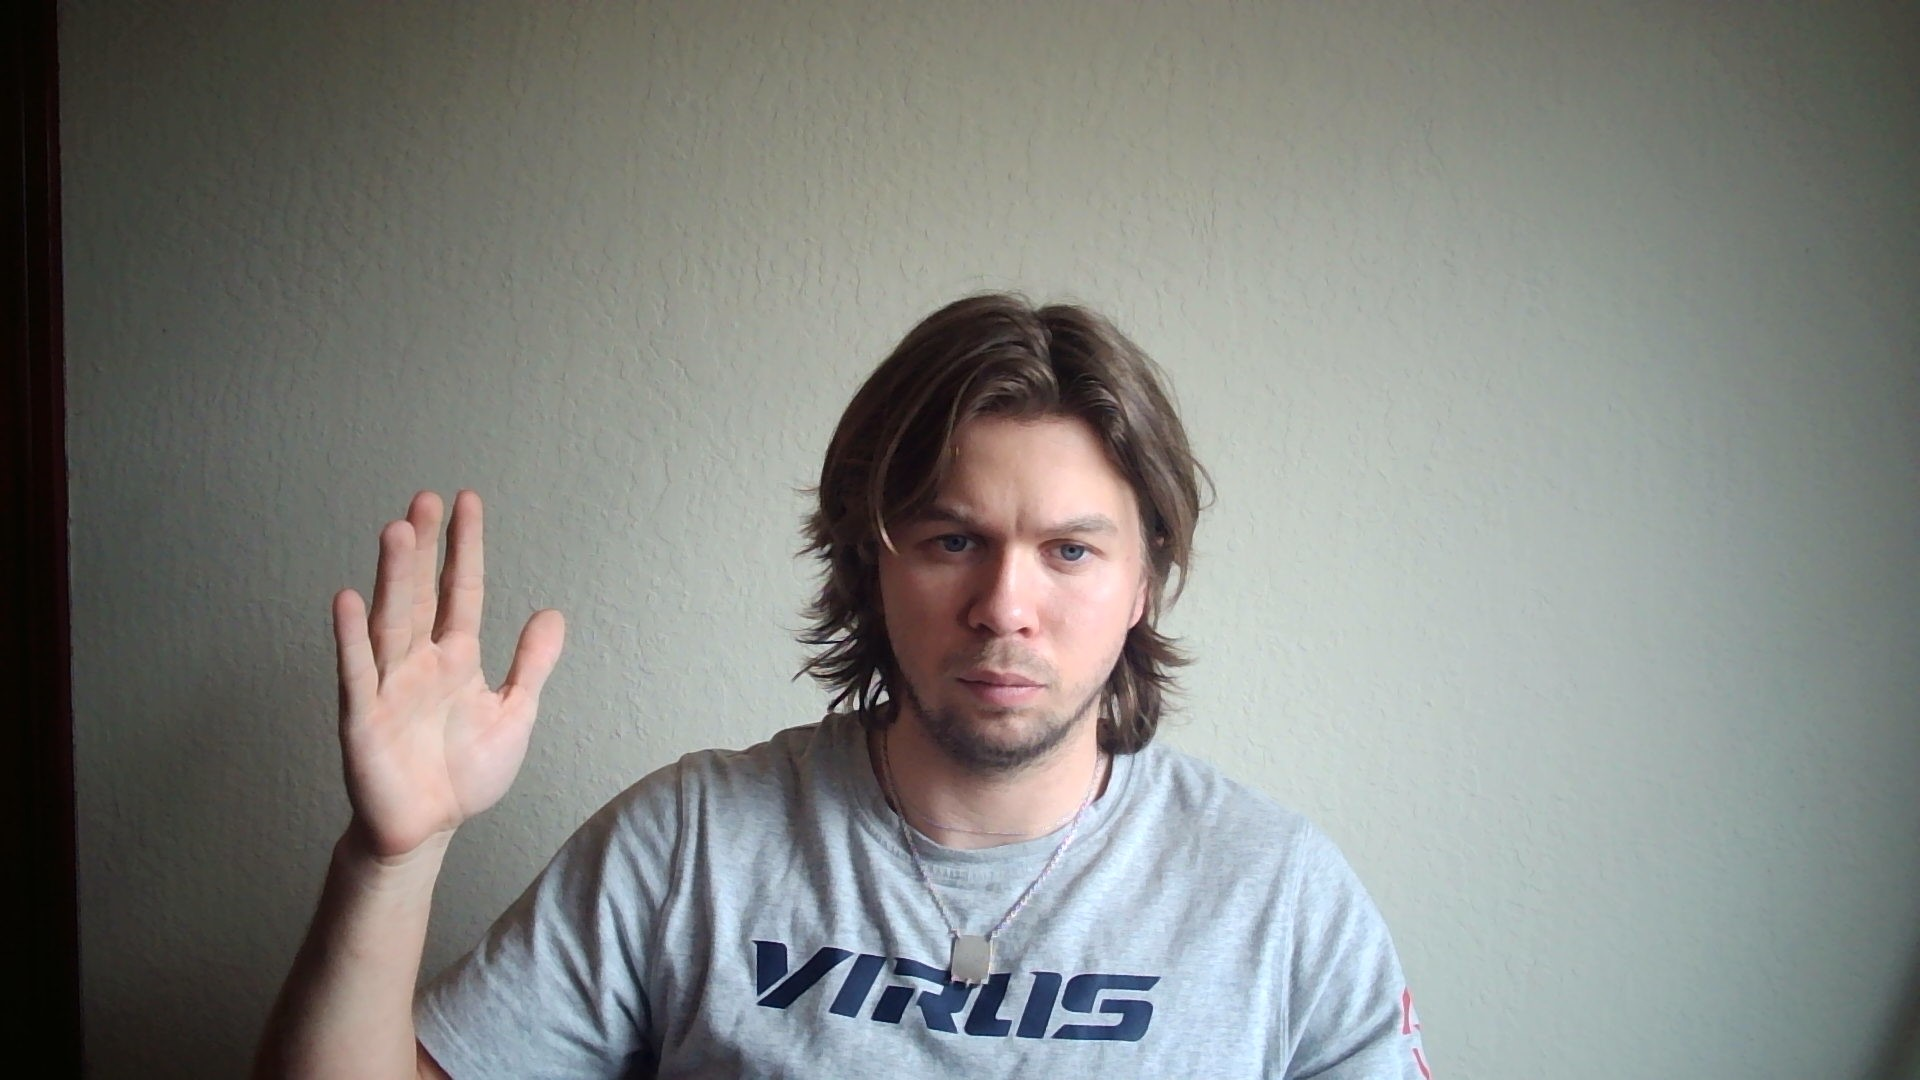hello: (334, 488, 564, 857)
